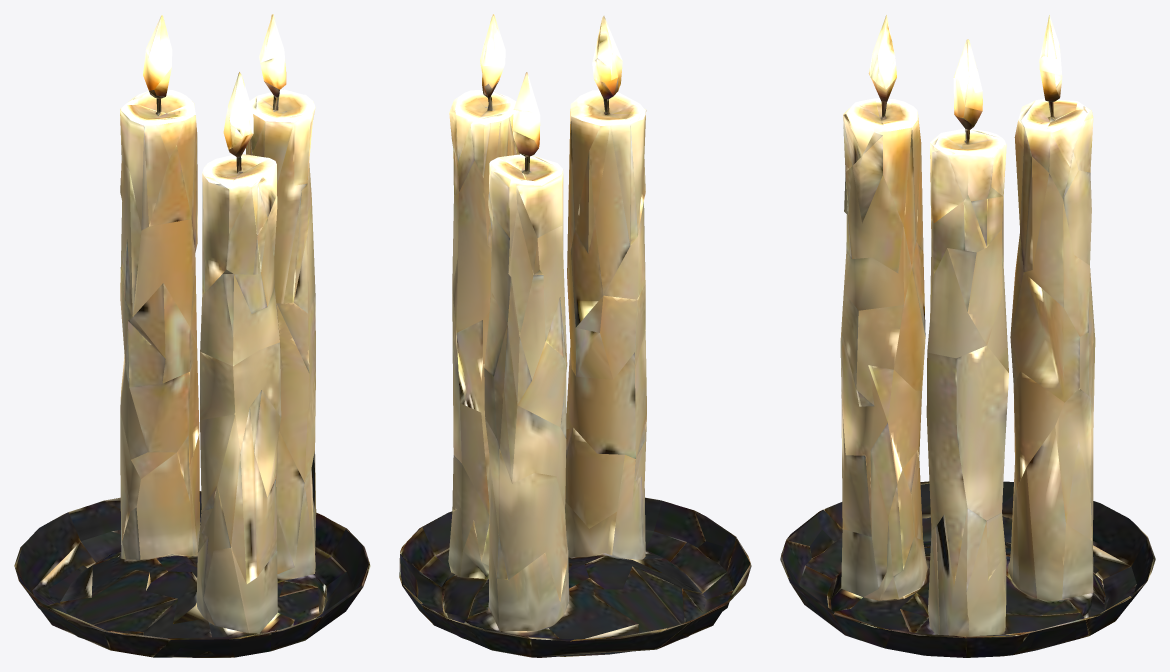
File: candles.lod1.glb
3 renders of one model, left to right at view 1: azimuth 30°, elevation 25°; view 2: azimuth 150°, elevation 25°; view 3: azimuth 270°, elevation 25°, orthographic. The views are drawn at different scales.
Bounding box in the file's own units: 0.1699 × 0.3 × 0.17.
Materials: 1 (1 with a texture image).
